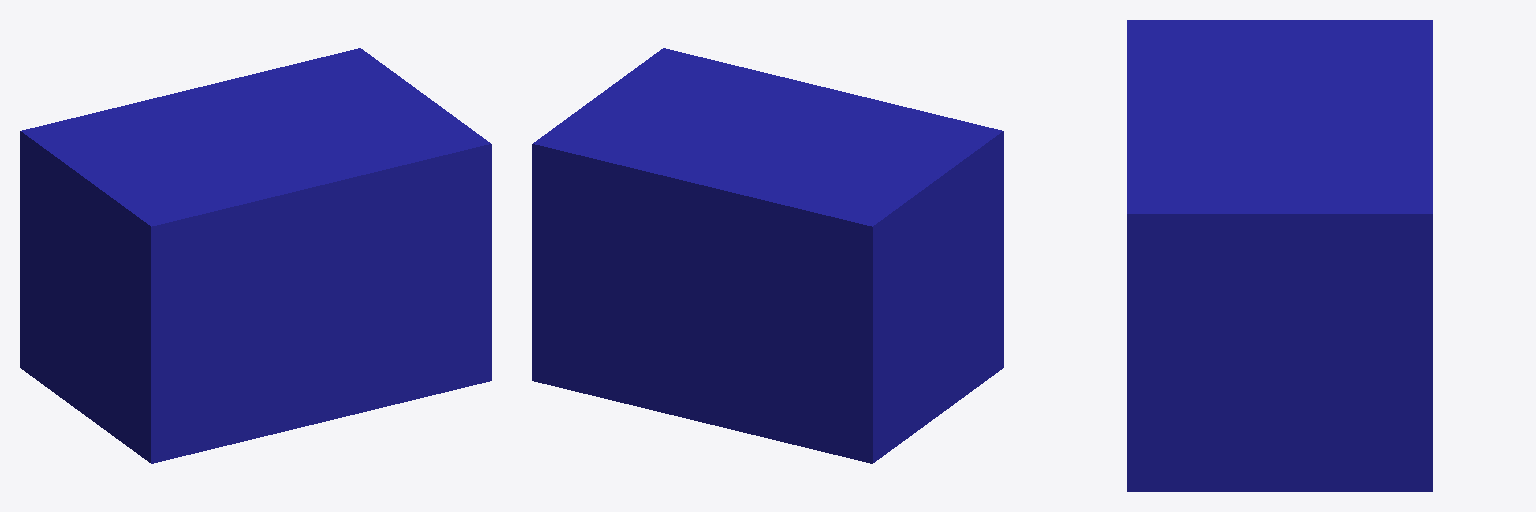
URDF robot description (agv):
<?xml version="1.0" ?>
<!-- =================================================================================== -->
<!-- |    This document was autogenerated by xacro from ur10_joint_limited_robot.urdf.xacro | -->
<!-- |    EDITING THIS FILE BY HAND IS NOT RECOMMENDED                                 | -->
<!-- =================================================================================== -->
<robot name="agv" xmlns:xacro="http://ros.org/wiki/xacro">
   <gazebo>
    <plugin name="gazebo_ros_control" filename="libgazebo_ros_control.so">
      <robotNamespace>/rrbot</robotNamespace>
      <robotSimType>gazebo_ros_control/DefaultRobotHWSim</robotSimType>
    </plugin>
  </gazebo>
  <!--
  Author: [author]
  Contributers: [author], [author], [author]
-->
  <!-- measured from model -->
<link name="world"/>
<joint name="world_joint" type="fixed">
  <parent link="world"/>
  <child link="agv_link_base"/>
  <origin rpy="0.0 0.0 0.0" xyz="0.0 0.0 0.3"/>
</joint>
<link name="agv_link_base"/>
<joint name="world_agv_joint_x" type="prismatic">
  <parent link="agv_link_base"/>
  <child link="agv_link_mid_1"/>
  <origin rpy="0.0 0.0 0.0" xyz="0.0 0.0 0.0"/>
  <axis xyz="1 0 0" />
  <limit effort="100.0" lower="-5" upper="5" velocity="1.0"/>
</joint>
<link name="agv_link_mid_1"/>
<joint name="world_agv_joint_y" type="prismatic">
  <parent link="agv_link_mid_1"/>
  <child link="agv_link_mid_2"/>
  <origin rpy="0.0 0.0 0.0" xyz="0.0 0.0 0.0"/>
  <axis xyz="0 1 0" />
  <limit effort="100.0" lower="-5" upper="5" velocity="1.0"/>
</joint>
<link name="agv_link_mid_2"/>
<joint name="world_agv_joint_z" type="continuous">
  <parent link="agv_link_mid_2"/>
  <child link="agv_link"/>
  <origin rpy="0.0 0.0 0.0" xyz="0.0 0.0 0.0"/>
  <axis xyz="0 0 1" />  
  <!-- <limit effort="999.0" velocity="1.0"/> -->
</joint>
<link name="agv_link">
    <visual>
      <geometry>
        <box size=".9 .6 .6"/>
      </geometry>
      <material name="orange">
        <color rgba="0.2 0.2 0.7 1.0"/>
      </material>
    </visual>
    <collision>
      <geometry>
        <box size=".9 .6 .6"/>
      </geometry>
    </collision>
    <inertial>
      <mass value="4.0"/>
      <origin rpy="0 0 0" xyz="0.0 0.0 0.0"/>
      <inertia ixx="0.0061063308908" ixy="0.0" ixz="0.0" iyy="0.0061063308908" iyz="0.0" izz="0.01125"/>
    </inertial>
  </link>


<!--   <transmission name="agv_link">
    <type>transmission_interface/SimpleTransmission</type>
    <joint name="agv_link">
      <hardwareInterface>hardware_interface/PositionJointInterface</hardwareInterface>
    </joint>
    <actuator name="agv_link">
      <mechanicalReduction>1</mechanicalReduction>
    </actuator>
  </transmission> -->

  <gazebo reference="agv_link">
    <mu1>0.2</mu1>
    <mu2>0.2</mu2>
    <!-- <selfCollide>true</selfCollide> -->
    <material>Gazebo/Orange</material>
  </gazebo>

</robot>

--- Render facts (derived) ---
The picture shows the robot from 3 angles, left to right: view 1: azimuth 30°, elevation 25°; view 2: azimuth 150°, elevation 25°; view 3: azimuth 270°, elevation 25°; orthographic projection.
Model agv with 5 links and 4 joints (1 continuous, 2 prismatic, 1 fixed), rooted at world, posed all joints at 0.
Links seen in each view (by area): view 1: agv_link; view 2: agv_link; view 3: agv_link.
Boxes of the visible links, x1,y1,x2,y2 form: agv_link: [20, 48, 491, 463]; agv_link: [532, 48, 1003, 463]; agv_link: [1127, 20, 1432, 491].
Size in the robot's own frame: 0.9 by 0.6 by 0.6 metres.
Geometry: primitives only (box / cylinder / sphere), no mesh files.